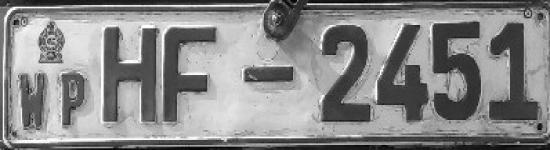-: (236, 49, 302, 94)
1: (485, 16, 545, 128)
2: (312, 14, 375, 130)
4: (373, 17, 432, 132)
5: (430, 16, 485, 127)
F: (160, 22, 226, 133)
H: (91, 15, 161, 134)
P: (54, 63, 92, 133)
W: (14, 67, 51, 135)
